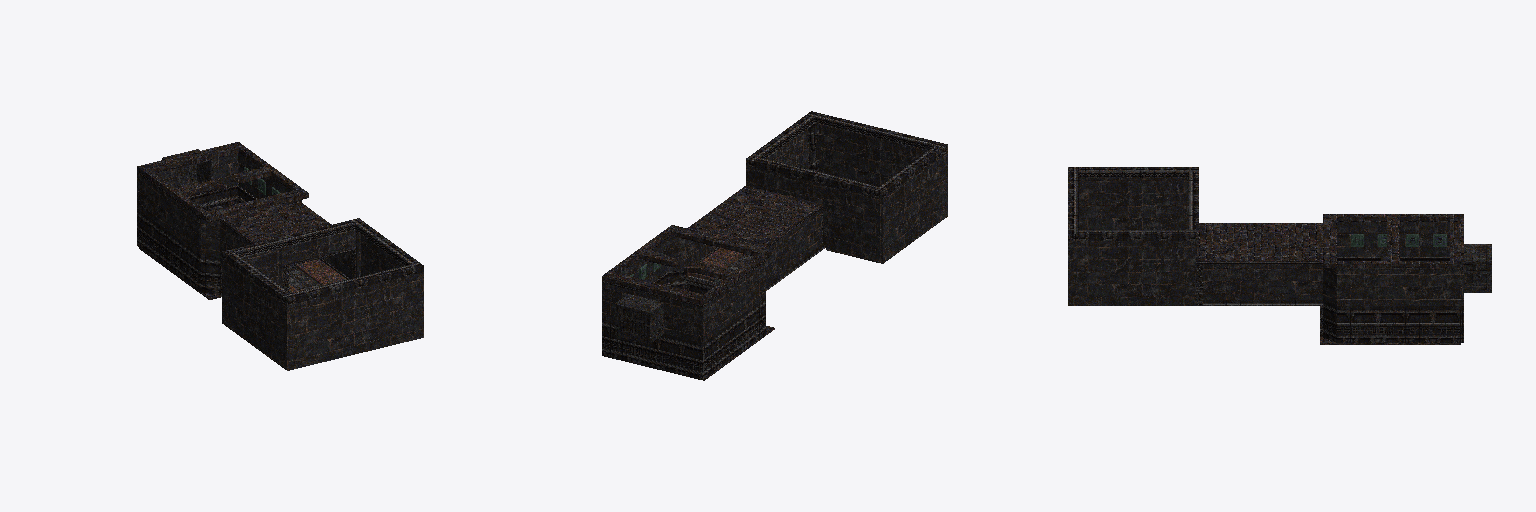
3 views of the same model, side by side, from view 1: azimuth 30°, elevation 25°; view 2: azimuth 150°, elevation 25°; view 3: azimuth 270°, elevation 25° (orthographic).
Visible parts, largest first — view 1: entity0_brush23, entity0_brush19, entity0_brush161, entity0_brush30, entity0_brush142, entity0_brush144, entity0_brush124, entity0_brush55, entity0_brush54, entity0_brush160, entity0_brush121, entity0_brush120 (+11 smaller); view 2: entity0_brush23, entity0_brush122, entity0_brush35, entity0_brush19, entity0_brush7, entity0_brush161, entity0_brush30, entity0_brush124, entity0_brush142, entity0_brush38, entity0_brush51, entity0_brush144 (+13 smaller); view 3: entity0_brush121, entity0_brush16, entity0_brush5, entity0_brush29, entity0_brush19, entity0_brush161, entity0_brush51, entity0_brush160, entity0_brush53, entity0_brush143, entity0_brush52, entity0_brush146 (+9 smaller).
Boxes of the visible parts, box(x1,y1,x2,y2) form: entity0_brush23: box(289, 273, 422, 370); entity0_brush19: box(138, 174, 200, 254); entity0_brush161: box(236, 300, 288, 370); entity0_brush30: box(139, 221, 200, 291); entity0_brush142: box(282, 262, 423, 305); entity0_brush144: box(231, 220, 354, 257); entity0_brush124: box(283, 230, 355, 264); entity0_brush55: box(137, 142, 244, 175); entity0_brush54: box(201, 188, 308, 222); entity0_brush160: box(236, 268, 288, 323); entity0_brush121: box(361, 235, 423, 337); entity0_brush120: box(222, 258, 235, 332); entity0_brush23: box(816, 124, 926, 185); entity0_brush122: box(826, 185, 880, 262); entity0_brush35: box(602, 330, 704, 379); entity0_brush19: box(704, 261, 765, 341); entity0_brush7: box(766, 209, 821, 284); entity0_brush161: box(897, 182, 947, 252); entity0_brush30: box(705, 308, 765, 378); entity0_brush124: box(746, 165, 822, 203); entity0_brush142: box(807, 111, 947, 153); entity0_brush38: box(664, 298, 703, 342); entity0_brush51: box(715, 192, 795, 240); entity0_brush144: box(755, 157, 878, 195); entity0_brush121: box(1068, 241, 1195, 305); entity0_brush16: box(1337, 270, 1461, 305); entity0_brush5: box(1203, 264, 1322, 299); entity0_brush29: box(1337, 317, 1460, 342); entity0_brush19: box(1337, 222, 1449, 256); entity0_brush161: box(1079, 205, 1171, 229); entity0_brush51: box(1199, 236, 1322, 247); entity0_brush160: box(1079, 178, 1171, 192); entity0_brush53: box(1199, 248, 1322, 258); entity0_brush143: box(1079, 167, 1198, 177); entity0_brush52: box(1199, 226, 1322, 235); entity0_brush146: box(1079, 230, 1188, 240).
Bounding box in the file's own units: 800 × 536 × 1968.
Materials: 10 (10 with a texture image).